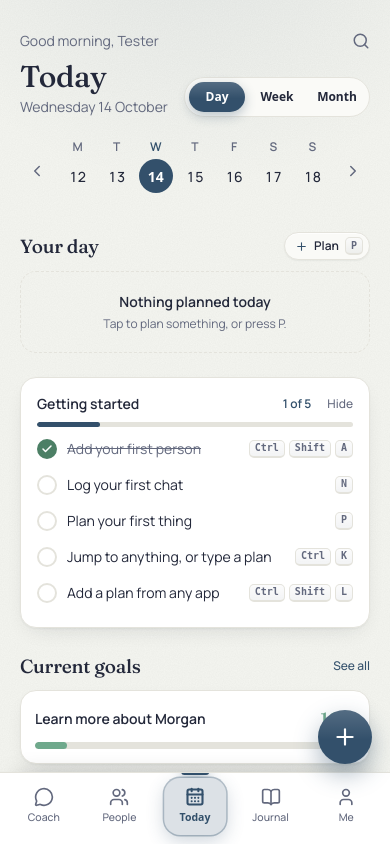
sync through OneDrive, once it is on › merges record by record: the copy changed last wins, and a person's goals are merged one by one
This screenshot has width=390, height=844.
Click the button "Me": x=346, y=807 x1=308 y1=781 x2=384 y2=832
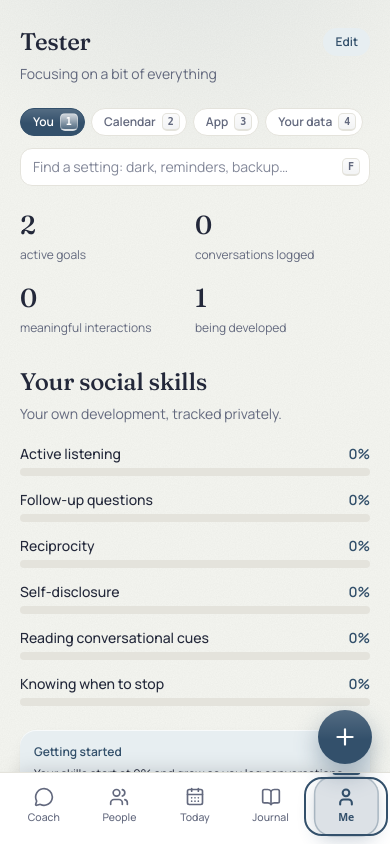
Click the tab "Your data 4": x=314, y=122 x1=265 y1=108 x2=363 y2=136
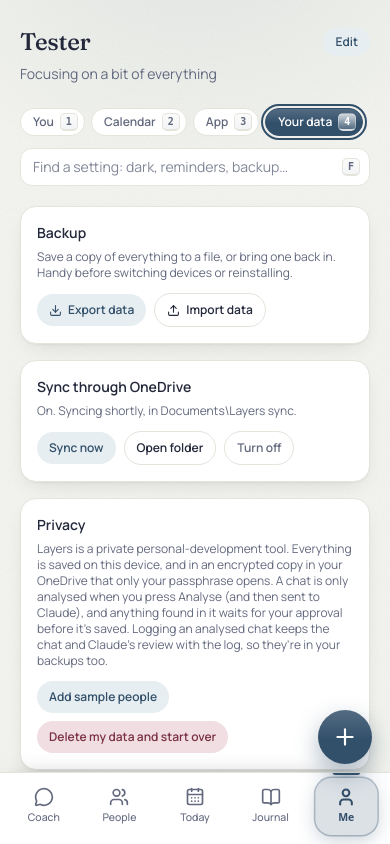
Click the button "Sync now": x=76, y=448 x1=37 y1=432 x2=116 y2=464
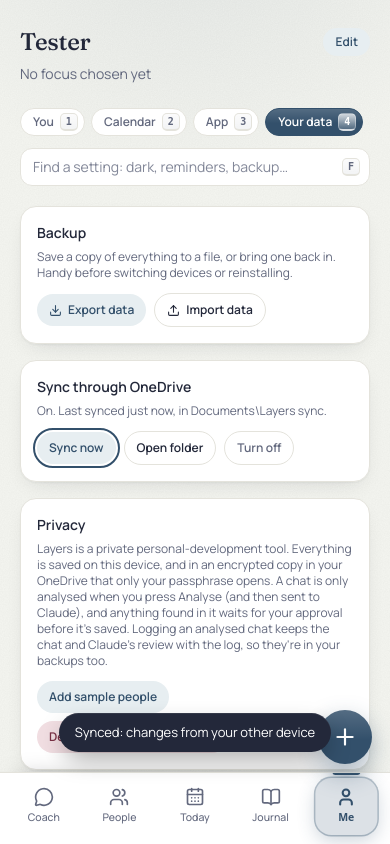
Result: the message shows "On. Last synced just now" at x1=37 y1=402 x2=327 y2=419
